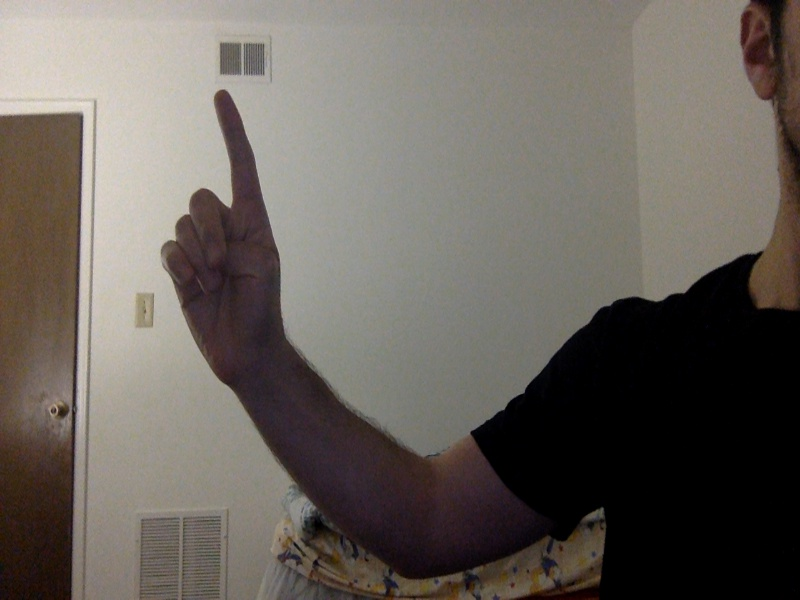1-hand: (159, 90, 286, 387)
